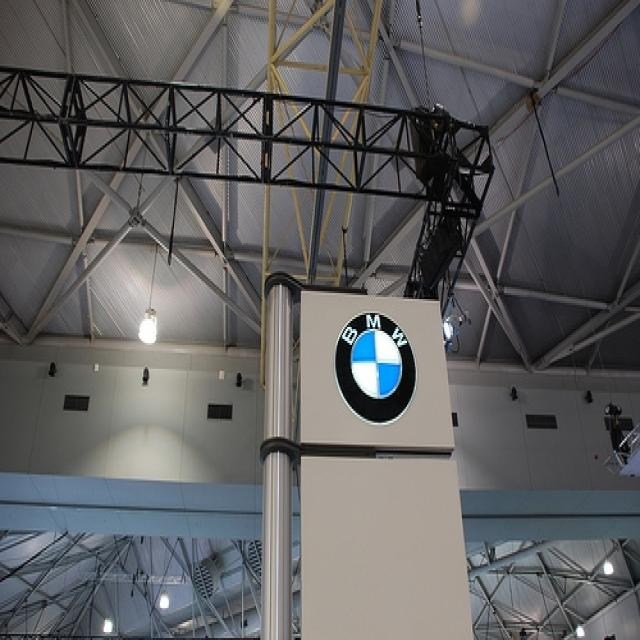bmw: (333, 310, 420, 430)
